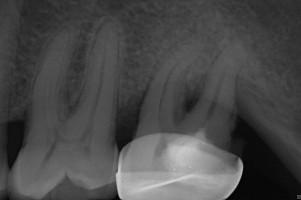Endo-Periodontal Lesion: (184, 74, 208, 113)
